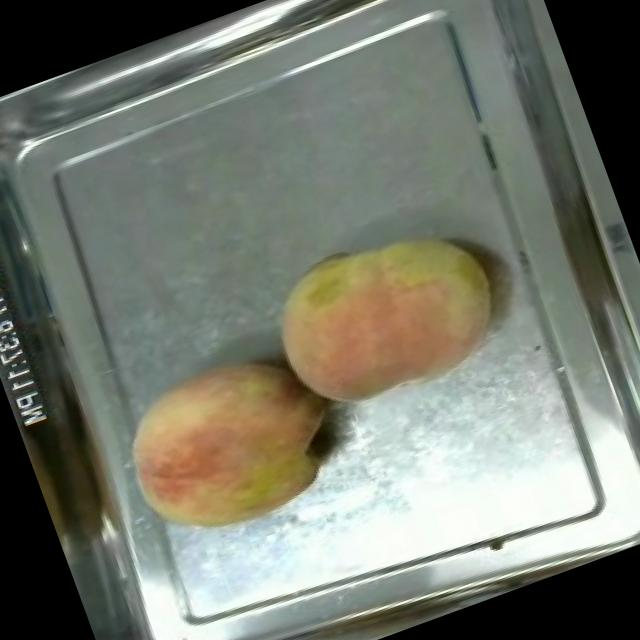Fruit: (92, 322, 357, 568), (252, 198, 524, 436)
